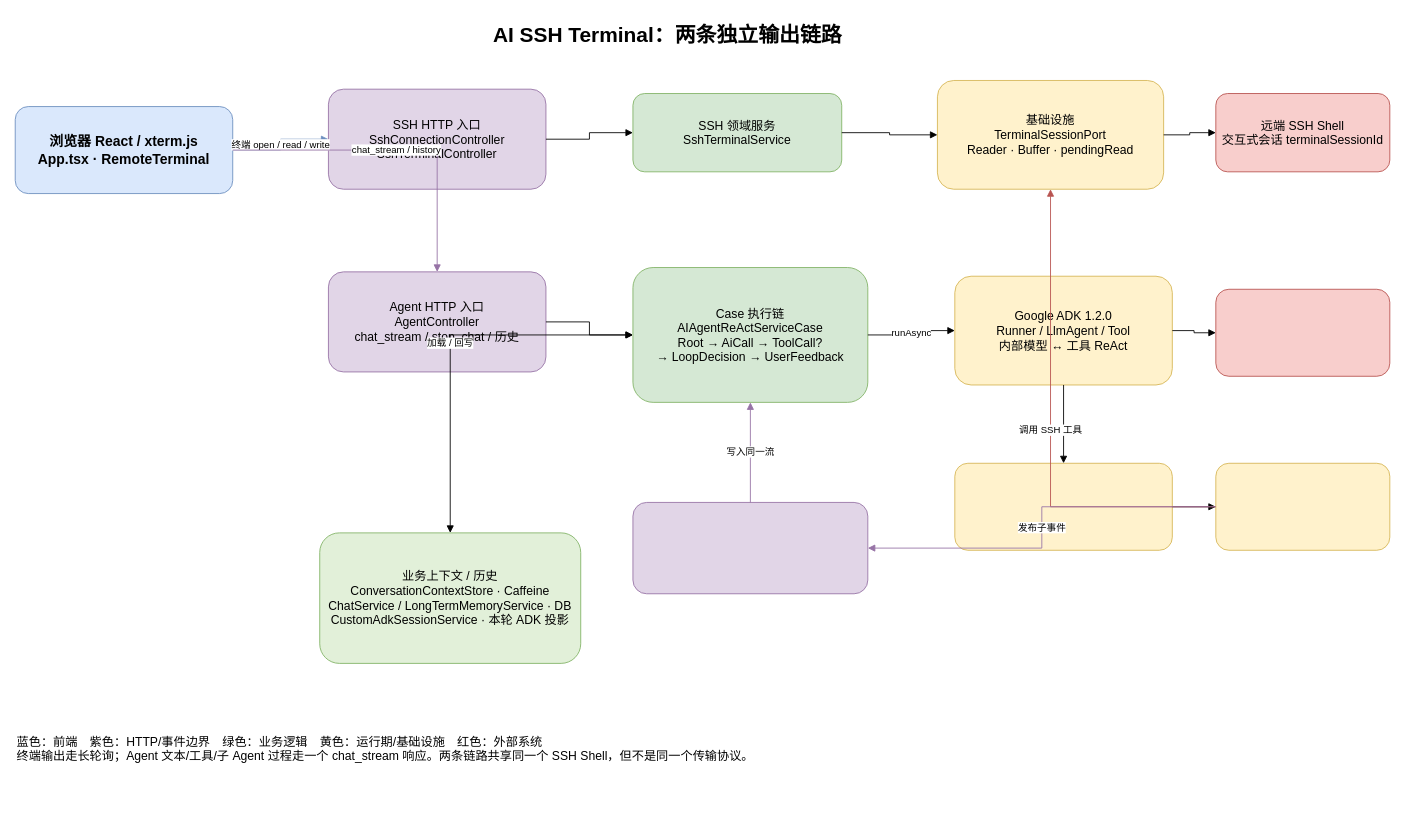
The diagram is 1405 pixels wide and 830 high, and some of its shapes have lost their labels. The shapes that lost their labels are listed below. From the top down, each one's box as (x1, y1, x2, y2) in pixels, then its label:
(1215, 288, 1390, 376): 模型服务 Spring AI ChatModel LocalSpringAI 适配
(954, 462, 1172, 550): 主 Agent 派发工具 单子 Agent / 批量 / 规划
(1215, 462, 1390, 550): 子 Agent Runner 诊断 / 变更 executeCommand
(632, 502, 868, 594): 子事件回流 AgentEventPublisher NestedAgentEventForwarder
